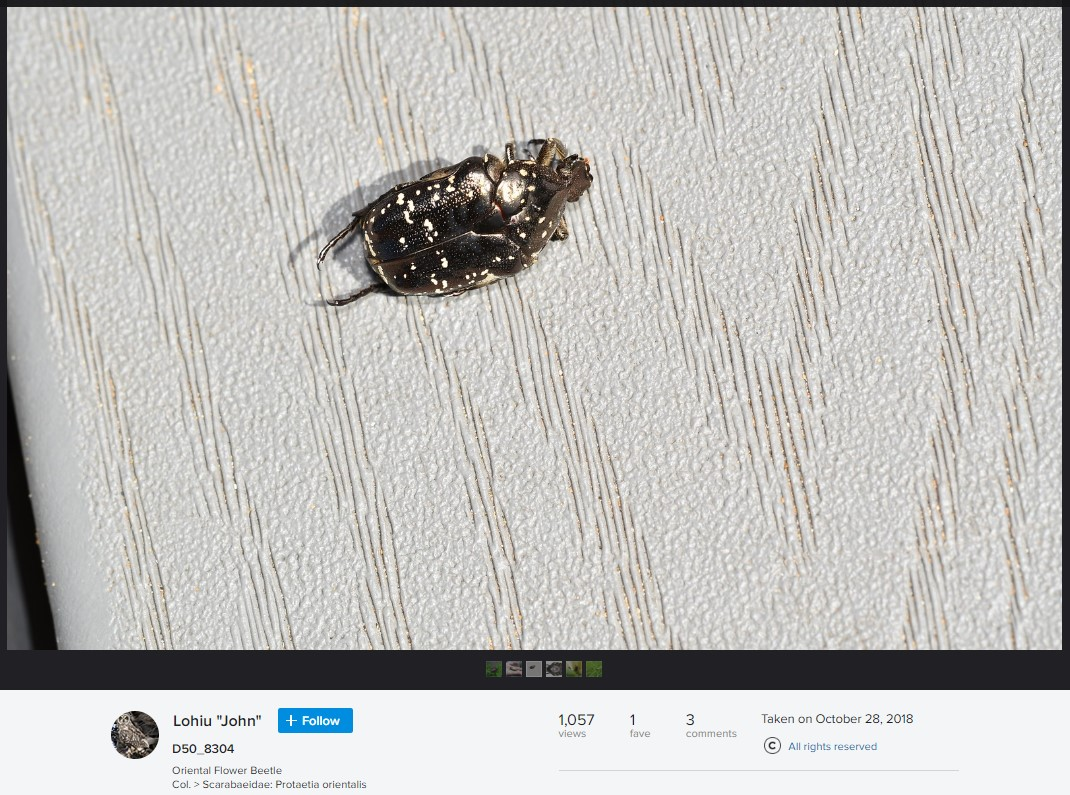Protaetia _orientalis: (305, 130, 600, 324)
